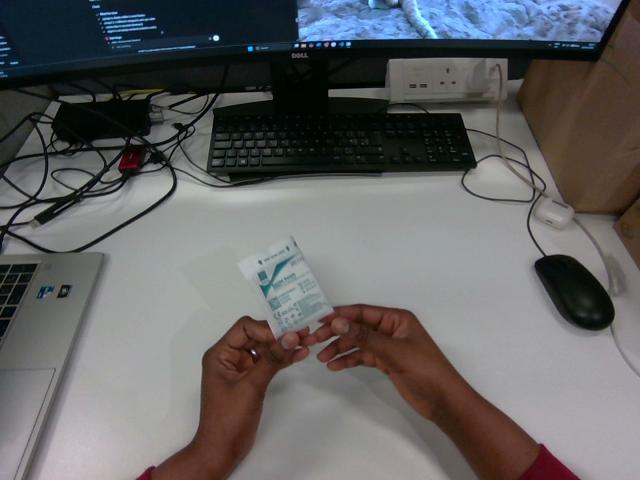gauze: (238, 236, 332, 337)
